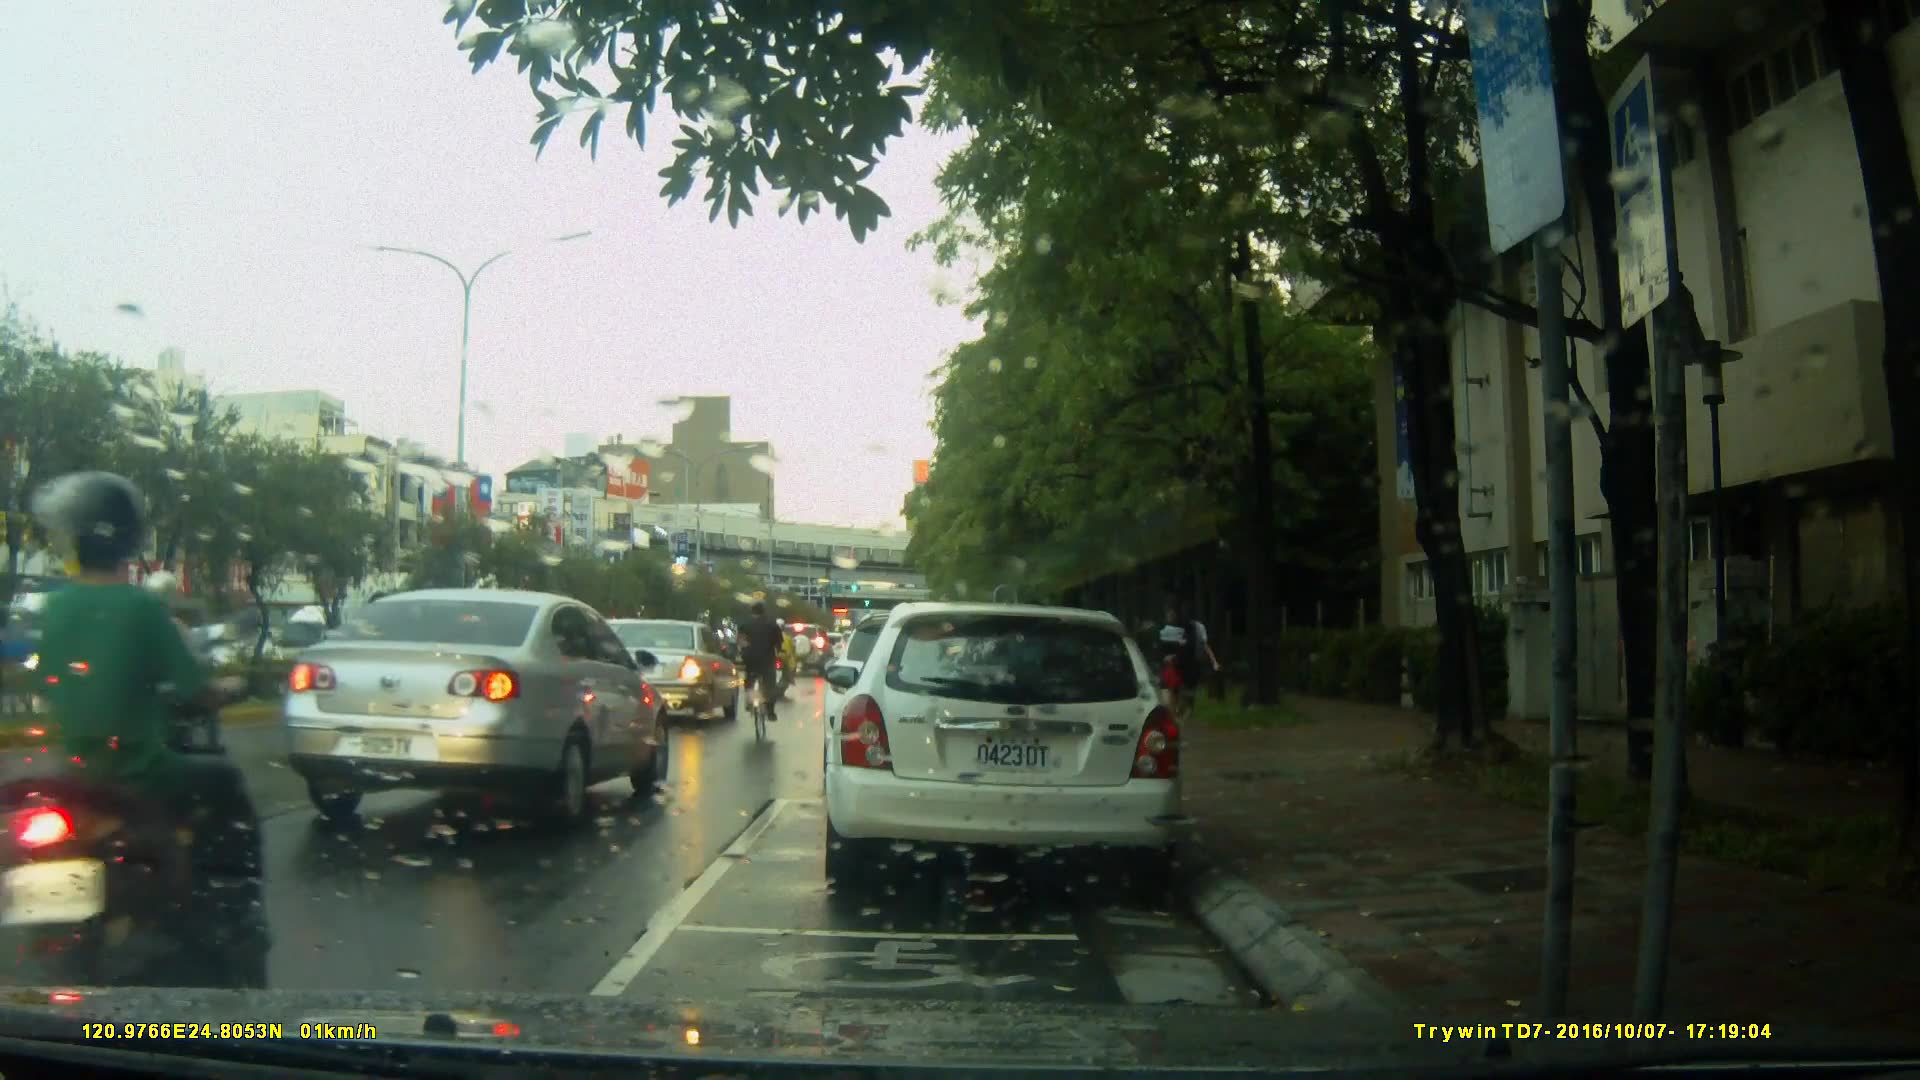pedestrian: (1158, 599, 1210, 734), (1151, 603, 1201, 722)
rider: (20, 474, 263, 1029), (735, 600, 787, 758), (768, 614, 801, 702)
vehicle: (820, 602, 1188, 898), (280, 587, 676, 834), (579, 619, 742, 730), (1, 587, 130, 699), (134, 634, 239, 689)
